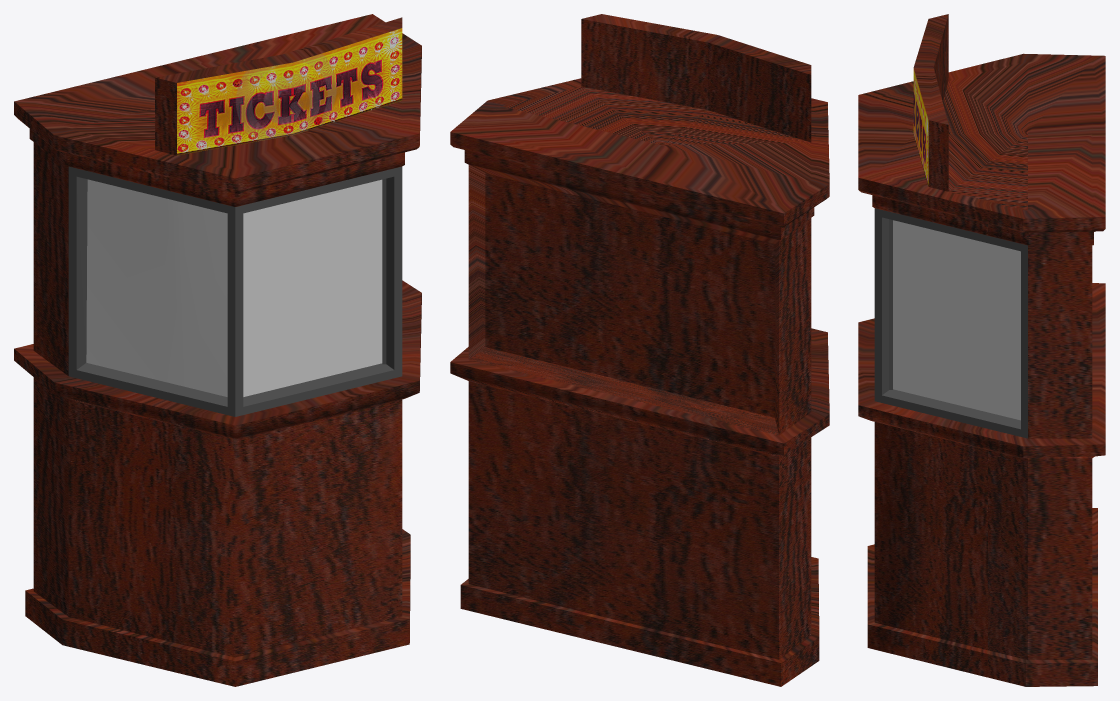
The model's file is ticketbooth.FBX.
The picture shows the model from 3 angles, left to right: view 1: azimuth 30°, elevation 25°; view 2: azimuth 150°, elevation 25°; view 3: azimuth 270°, elevation 25°; orthographic projection. The views are drawn at different scales.
Visible parts, largest first — view 1: Cylinder001; view 2: Cylinder001; view 3: Cylinder001.
Boxes of the visible parts, x1,y1,x2,y2 form: Cylinder001: (14, 14, 421, 686); Cylinder001: (450, 14, 829, 686); Cylinder001: (858, 14, 1105, 686).
Bounding box in the file's own units: 115 × 175 × 72.52.
6 materials, 3 textured.
